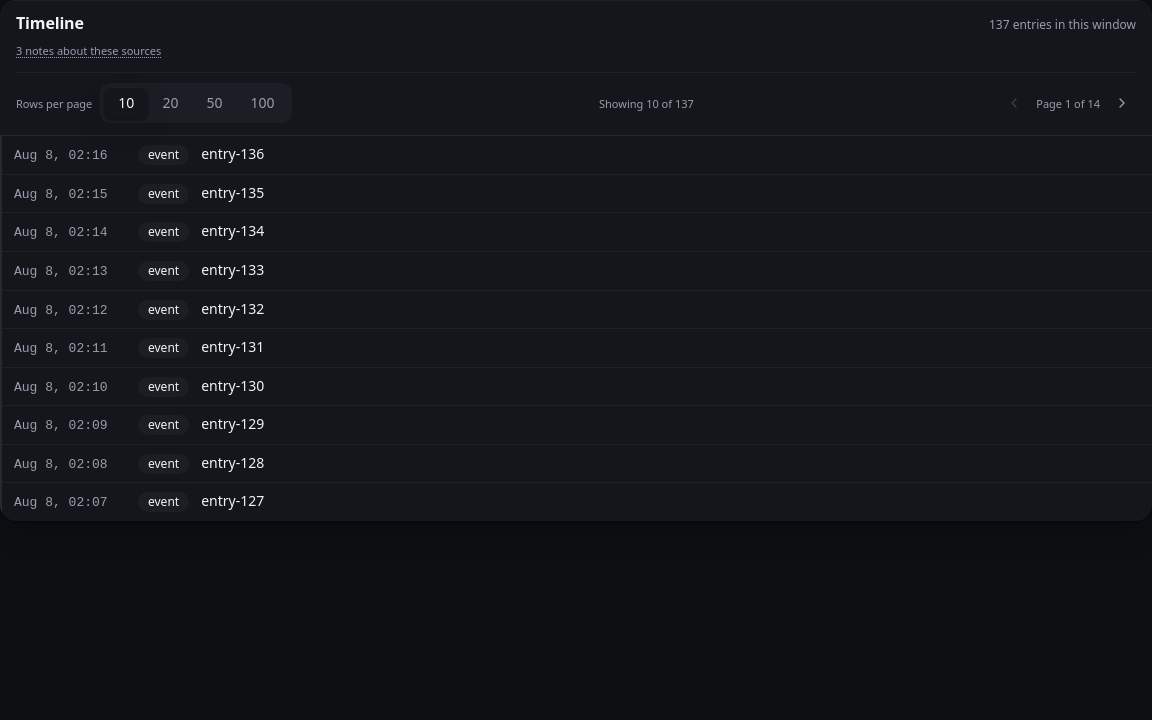
InvestigationTimeline — pagination › pages forward and back over the same merged order
The image size is (1152, 720).
Click the button named "Next page".
click(1122, 103)  # box [1108, 89, 1136, 117]
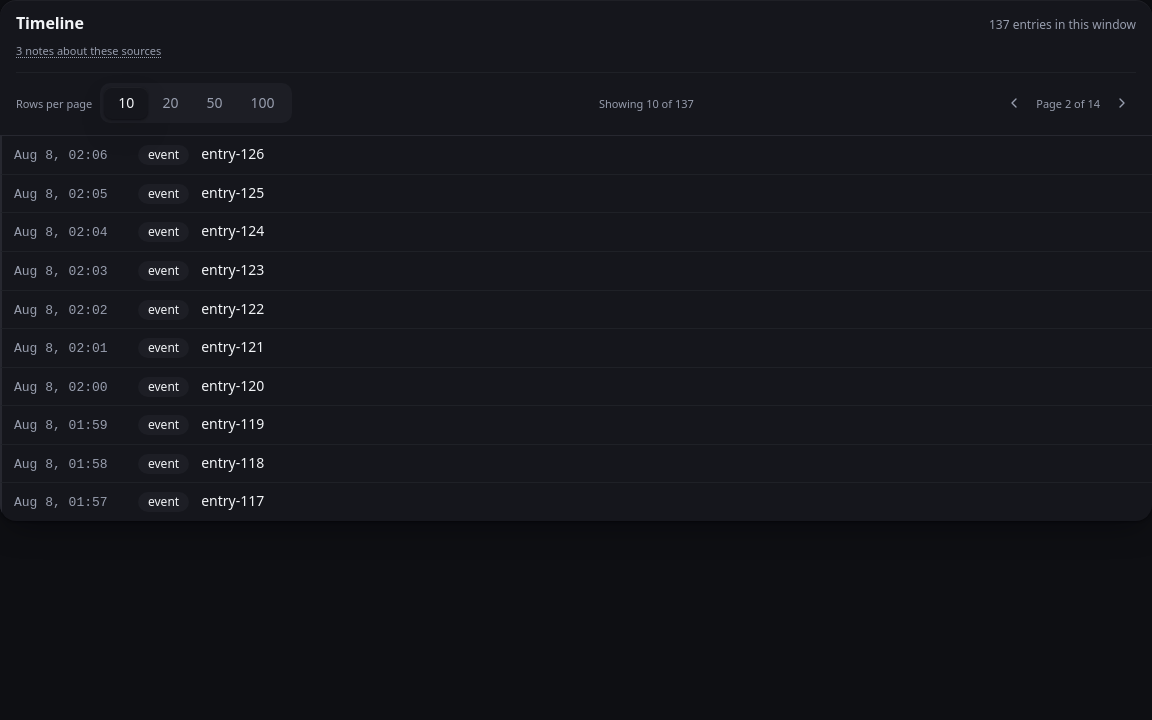
Now the text "entry-126" is shown, box [201, 144, 264, 163]
Now the text with test id "pager-page" reads "Page 2 of 14", box [1036, 96, 1100, 111]
Click the radio button labelled "50".
click(214, 103)  # box [192, 87, 236, 119]
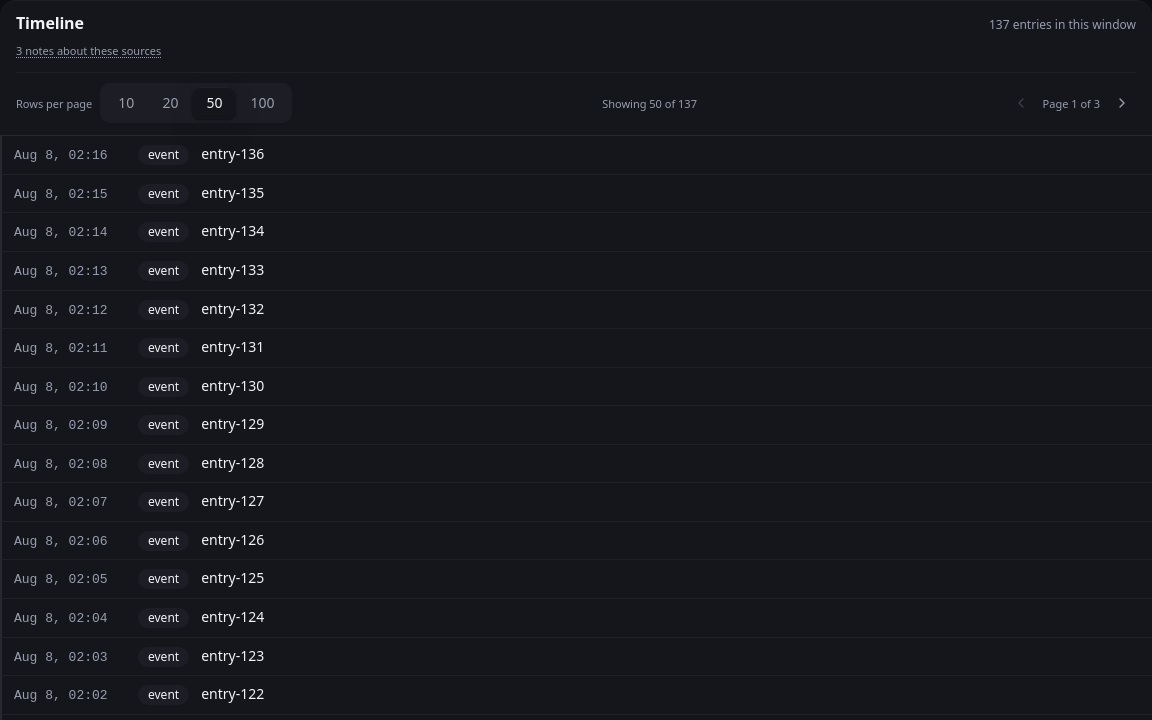
Click the button named "Next page".
click(1122, 103)  # box [1108, 89, 1136, 117]
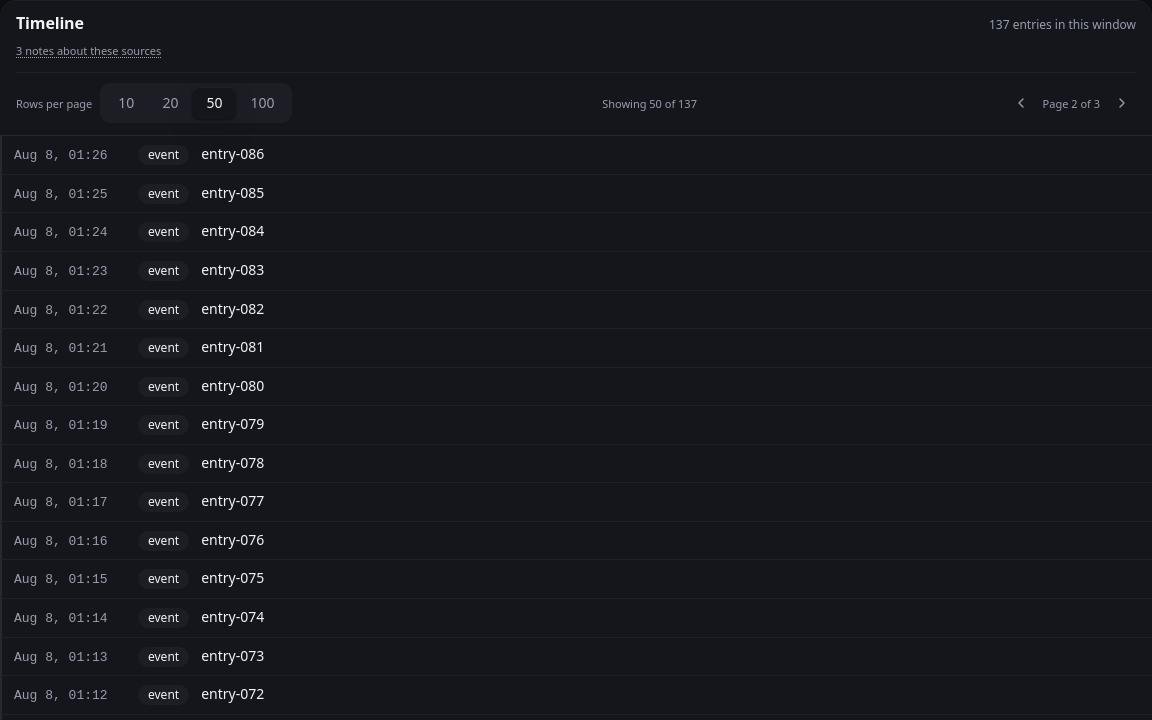
Click the button named "Next page".
click(1122, 103)  # box [1108, 89, 1136, 117]
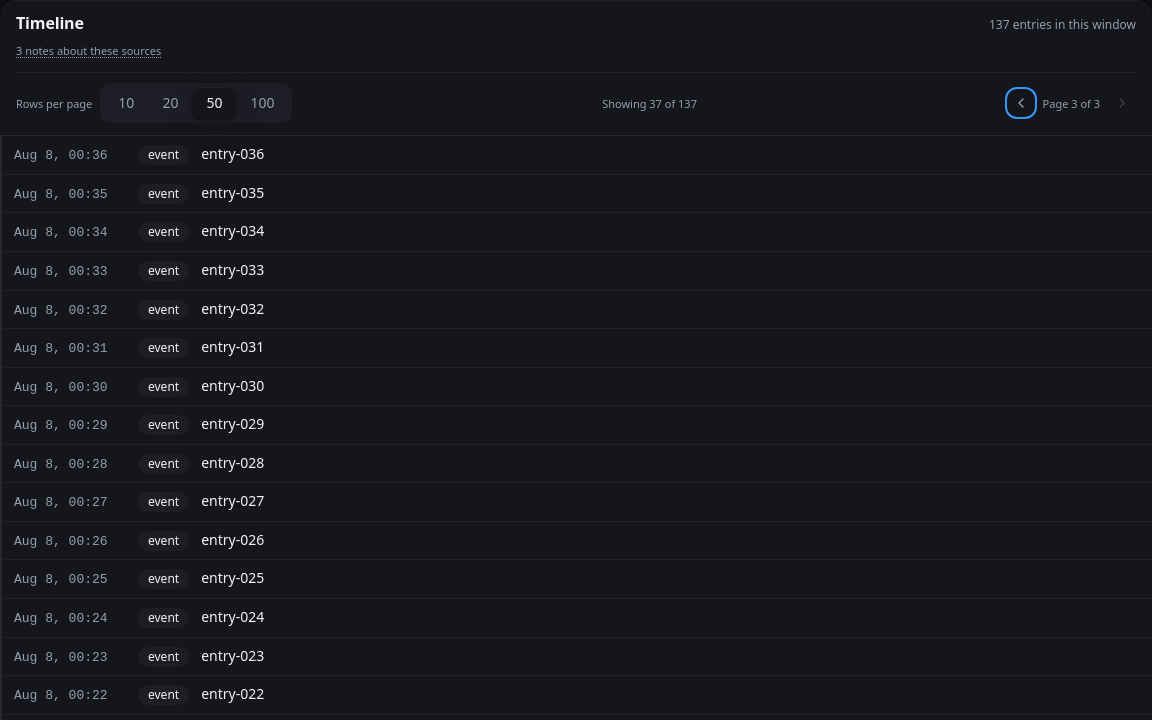
Now the text "entry-036" is shown, box [201, 144, 264, 163]
Now the text with test id "pager-page" reads "Page 3 of 3", box [1043, 96, 1100, 111]
Click the button named "Previous page".
click(1021, 103)  # box [1007, 89, 1035, 117]
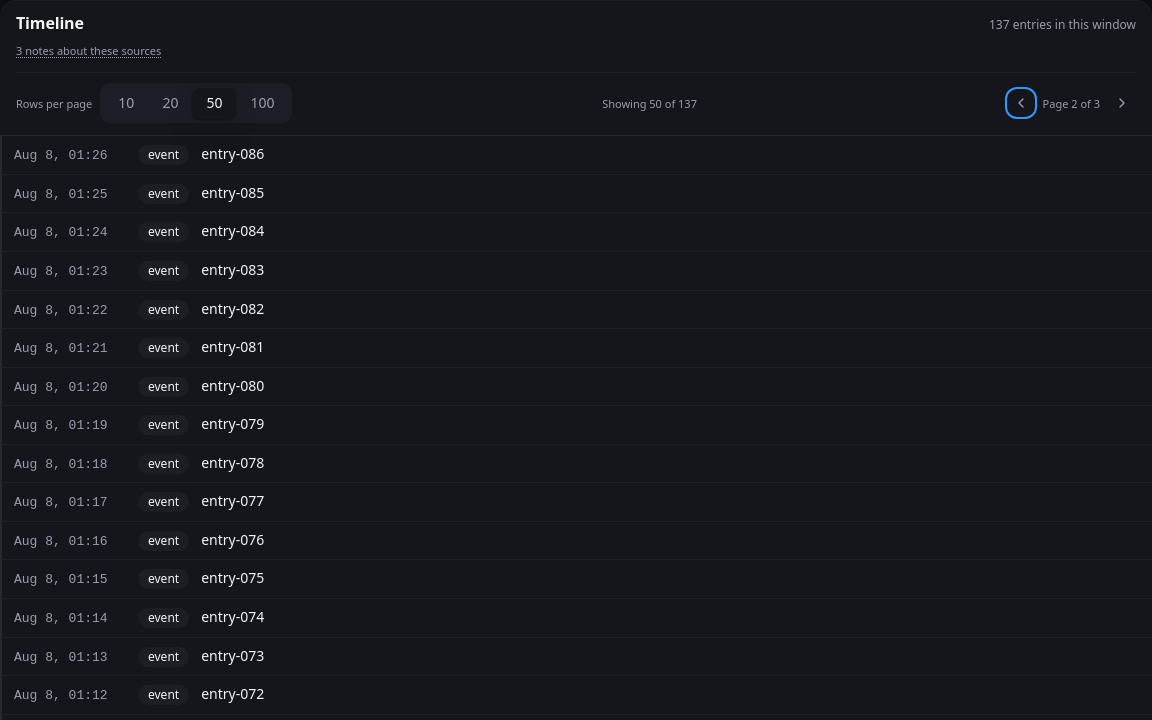
Now the text "entry-086" is shown, box [201, 144, 264, 163]
Now the text with test id "pager-page" reads "Page 2 of 3", box [1043, 96, 1100, 111]
